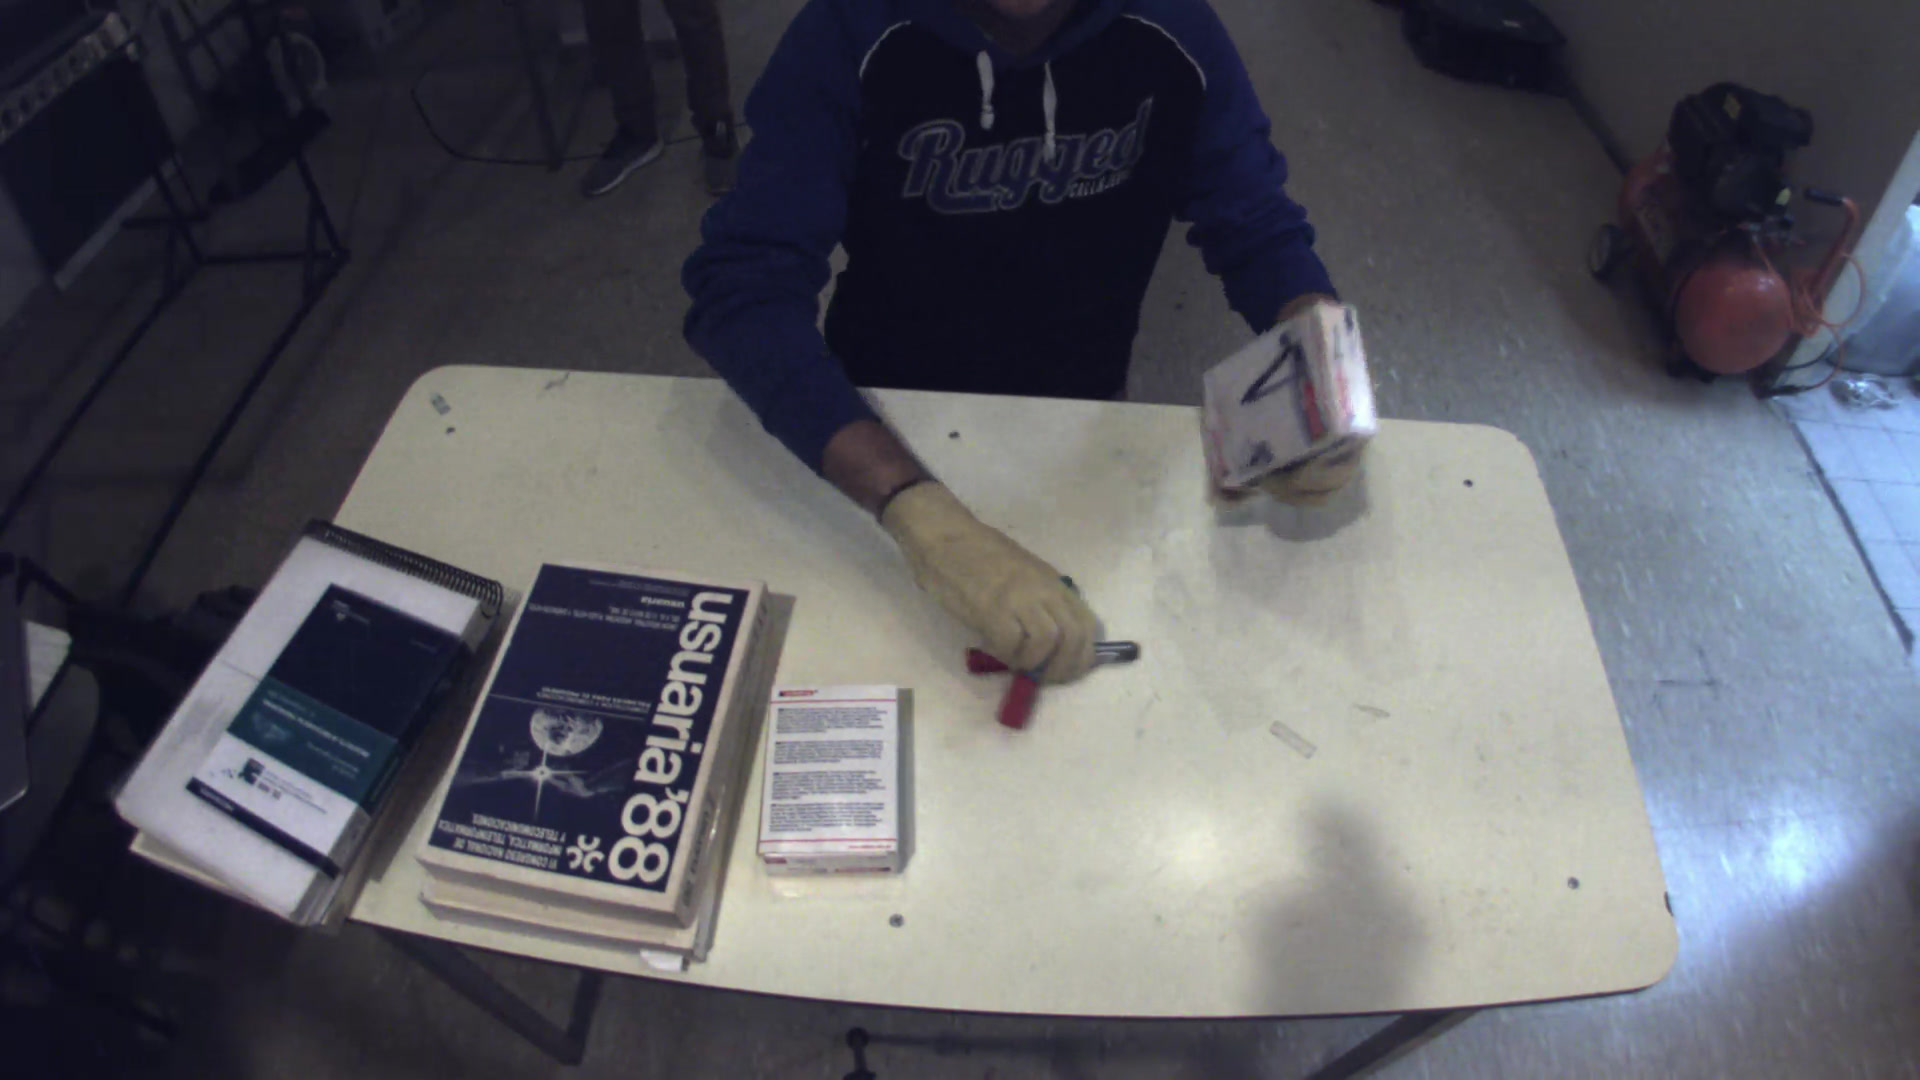hand: (864, 485, 1114, 680)
